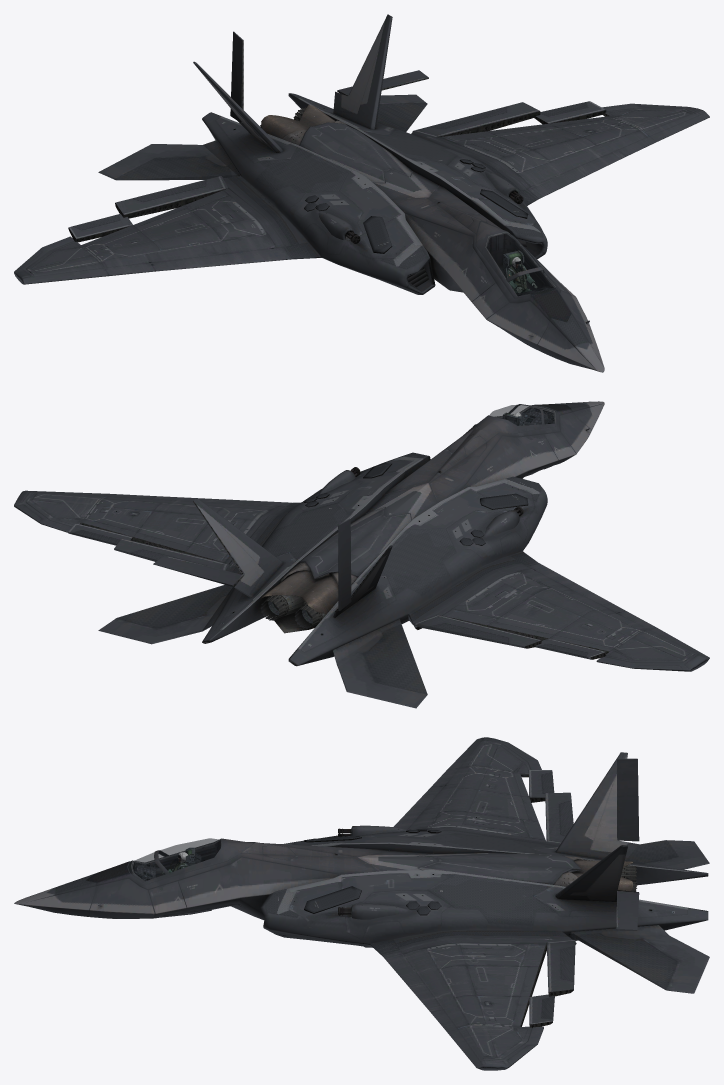
Rendered from XA-20_Razorback_Strike_Fighter.dat.obj.
The picture shows the model from 3 angles, top to bottom: view 1: azimuth 30°, elevation 25°; view 2: azimuth 150°, elevation 25°; view 3: azimuth 270°, elevation 25°; orthographic projection.
Parts seen in each view (by area): view 1: XA-20_Razorback_LOD0, XA-20_Razorback_ElevatorR01, XA-20_Razorback_Cockpit_glass, XA-20_Razorback_FlapR02, XA-20_Razorback_FlapL02, XA-20_Razorback_ElevatorL01, XA-20_Razorback_AileronR01, XA-20_Razorback_AileronL01, XA-20_Razorback_RRudder02, XA-20_Razorback_LRudder02, XA-20_Razorback_Pilot_usa; view 2: XA-20_Razorback_LOD0, XA-20_Razorback_ElevatorR01, XA-20_Razorback_ElevatorL01, XA-20_Razorback_FlapR02, XA-20_Razorback_FlapL02, XA-20_Razorback_RRudder02, XA-20_Razorback_LRudder02, XA-20_Razorback_Cockpit_glass, XA-20_Razorback_EngineL01, XA-20_Razorback_AileronR01, XA-20_Razorback_AileronL01, XA-20_Razorback_EngineR01; view 3: XA-20_Razorback_LOD0, XA-20_Razorback_ElevatorL01, XA-20_Razorback_Cockpit_glass, XA-20_Razorback_RRudder02, XA-20_Razorback_ElevatorR01, XA-20_Razorback_FlapL02, XA-20_Razorback_FlapR02, XA-20_Razorback_LRudder02, XA-20_Razorback_AileronL01, XA-20_Razorback_AileronR01.
Part boxes in pixels (x1,y1,x2,y2): XA-20_Razorback_LOD0: (14,14,709,372); XA-20_Razorback_ElevatorR01: (98,144,237,180); XA-20_Razorback_Cockpit_glass: (486,233,554,295); XA-20_Razorback_FlapR02: (115,176,228,218); XA-20_Razorback_FlapL02: (412,102,540,137); XA-20_Razorback_ElevatorL01: (377,94,427,131); XA-20_Razorback_AileronR01: (68,214,132,242); XA-20_Razorback_AileronL01: (534,101,606,124); XA-20_Razorback_RRudder02: (230,31,243,123); XA-20_Razorback_LRudder02: (337,70,428,95); XA-20_Razorback_Pilot_usa: (507,257,537,293); XA-20_Razorback_LOD0: (14,401,709,671); XA-20_Razorback_ElevatorR01: (336,621,427,708); XA-20_Razorback_ElevatorL01: (98,585,232,644); XA-20_Razorback_FlapR02: (412,614,541,648); XA-20_Razorback_FlapL02: (114,538,228,570); XA-20_Razorback_RRudder02: (338,518,351,610); XA-20_Razorback_LRudder02: (153,555,242,586); XA-20_Razorback_Cockpit_glass: (489,404,555,425); XA-20_Razorback_EngineL01: (260,595,304,620); XA-20_Razorback_AileronR01: (535,638,606,659); XA-20_Razorback_AileronL01: (68,523,132,545); XA-20_Razorback_EngineR01: (294,601,325,628); XA-20_Razorback_LOD0: (14,737,708,1070); XA-20_Razorback_ElevatorL01: (570,933,709,993); XA-20_Razorback_Cockpit_glass: (131,838,220,880); XA-20_Razorback_RRudder02: (617,758,639,841); XA-20_Razorback_ElevatorR01: (626,840,709,869); XA-20_Razorback_FlapL02: (546,940,575,996); XA-20_Razorback_FlapR02: (545,792,573,845); XA-20_Razorback_LRudder02: (616,891,639,930); XA-20_Razorback_AileronL01: (529,994,554,1027); XA-20_Razorback_AileronR01: (528,770,554,802).
Bounding box in the file's own units: 17.58 × 3.48 × 15.77.
